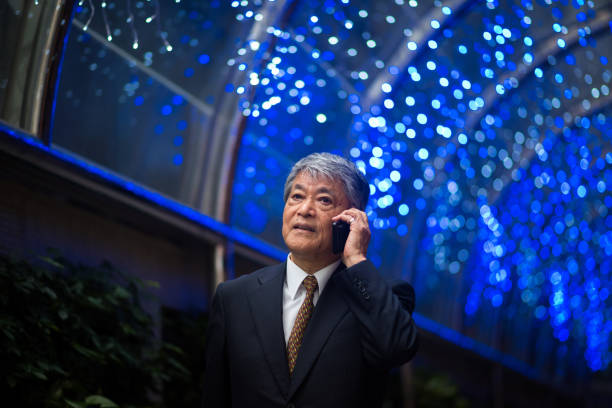phone: (329, 211, 364, 255)
talk: (279, 183, 378, 270)
